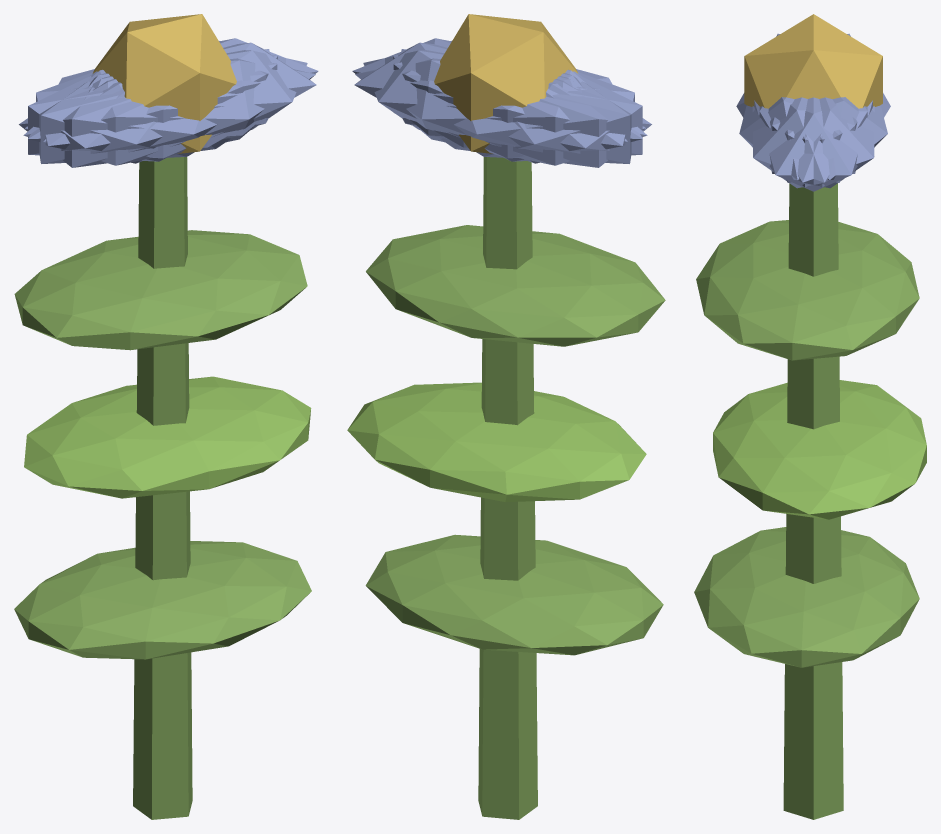
Rendered from handroanthus-chrysotrichus.glb.
3 views of the same model, side by side, from view 1: azimuth 30°, elevation 25°; view 2: azimuth 150°, elevation 25°; view 3: azimuth 270°, elevation 25° (orthographic).
Parts seen in each view (by area): view 1: leaf2, leaf0, leaf1, stem, center, petal1, petal6, petal2, petal5, petal7, petal0, petal4 (+2 smaller); view 2: leaf2, leaf1, leaf0, stem, center, petal8, petal3, petal7, petal4, petal2, petal0, petal5 (+2 smaller); view 3: leaf2, leaf1, leaf0, stem, center, petal0, petal4, petal5, petal8, petal1.
Part boxes in pixels (x1=…): leaf2: x1=14, y1=230, x2=307, y2=350; leaf0: x1=14, y1=541, x2=311, y2=659; leaf1: x1=24, y1=376, x2=311, y2=498; stem: x1=133, y1=157, x2=192, y2=819; center: x1=92, y1=14, x2=236, y2=153; petal1: x1=23, y1=58, x2=315, y2=165; petal6: x1=19, y1=71, x2=230, y2=167; petal2: x1=39, y1=49, x2=269, y2=163; petal5: x1=43, y1=50, x2=307, y2=158; petal7: x1=28, y1=55, x2=277, y2=161; petal0: x1=92, y1=42, x2=316, y2=148; petal4: x1=25, y1=38, x2=318, y2=139; leaf2: x1=366, y1=225, x2=665, y2=346; leaf1: x1=347, y1=382, x2=646, y2=502; leaf0: x1=365, y1=534, x2=663, y2=655; stem: x1=478, y1=157, x2=537, y2=819; center: x1=434, y1=14, x2=578, y2=153; petal8: x1=355, y1=58, x2=647, y2=165; petal3: x1=440, y1=71, x2=651, y2=167; petal7: x1=401, y1=49, x2=631, y2=163; petal4: x1=363, y1=50, x2=627, y2=158; petal2: x1=393, y1=55, x2=642, y2=161; petal0: x1=354, y1=42, x2=578, y2=148; petal5: x1=352, y1=38, x2=645, y2=139; leaf2: x1=696, y1=220, x2=919, y2=360; leaf1: x1=713, y1=380, x2=926, y2=519; leaf0: x1=694, y1=527, x2=919, y2=667; stem: x1=783, y1=183, x2=843, y2=819; center: x1=744, y1=14, x2=882, y2=108; petal0: x1=754, y1=97, x2=872, y2=191; petal4: x1=759, y1=97, x2=874, y2=188; petal5: x1=752, y1=97, x2=867, y2=188; petal8: x1=770, y1=97, x2=887, y2=179; petal1: x1=739, y1=97, x2=857, y2=179.
Bounding box in the file's own units: 0.1452 × 0.3782 × 0.103.
